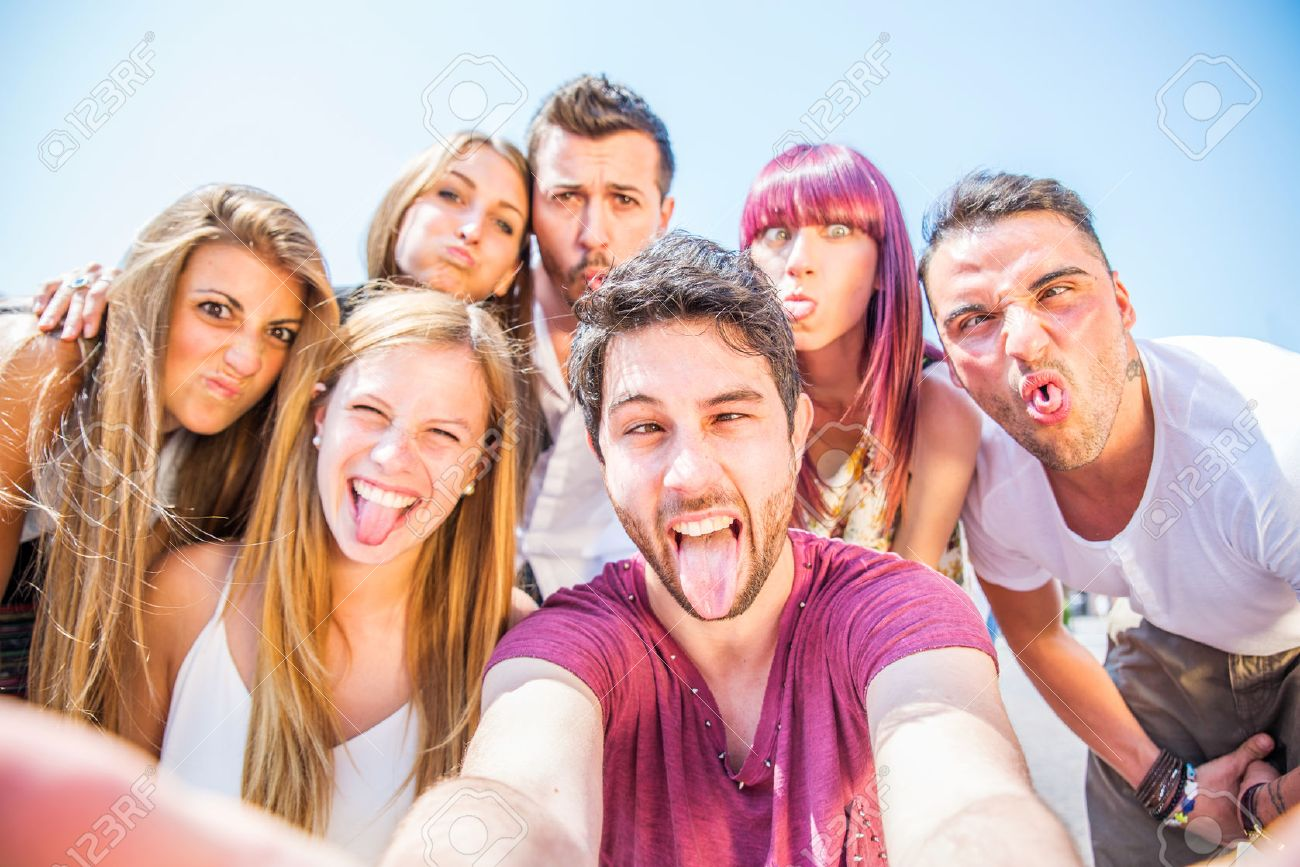bare: (610, 453, 793, 617), (955, 314, 1129, 468), (325, 451, 463, 561), (153, 339, 289, 435), (756, 256, 878, 347), (400, 218, 517, 301), (543, 212, 647, 295)
